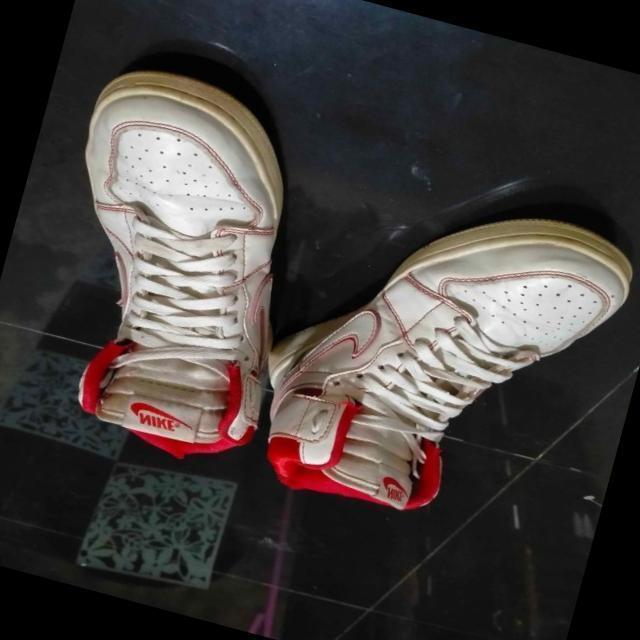nike fake jordan 1: (243, 160, 640, 560), (7, 55, 346, 482)
